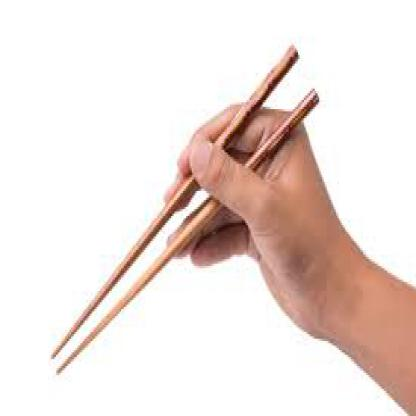chopstick: (50, 43, 299, 357), (56, 86, 319, 375)
